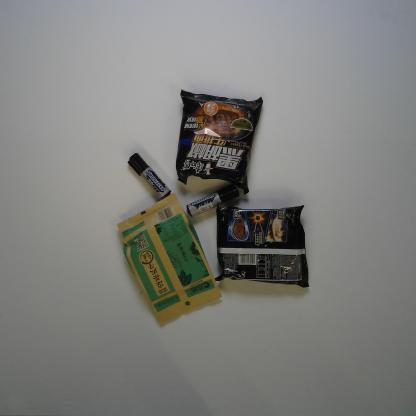Dried Food: (116, 190, 223, 329)
Instant Noodles: (175, 87, 265, 197), (210, 200, 311, 289)
Stationery: (126, 151, 172, 202), (185, 182, 241, 218)
